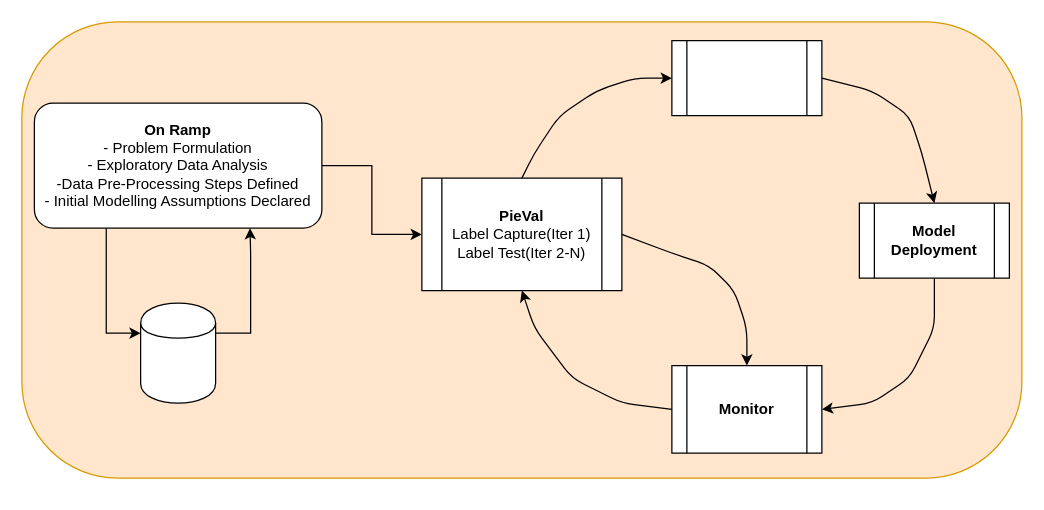
Some shapes in this 1044 by 510 pixel diagram are drawn without their labels. The shapes that lost their labels are listed below. From the top down, each one's box as (x1, y1, x2, y2) in pixels, then its label:
(671, 39, 822, 116): Model Training or Rehearsal
(139, 302, 216, 403): EMR
